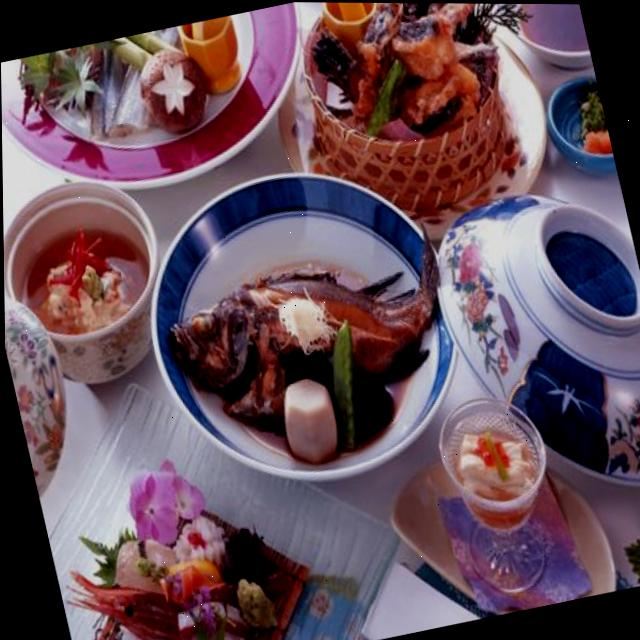熟制海鲜: (130, 204, 480, 452)
